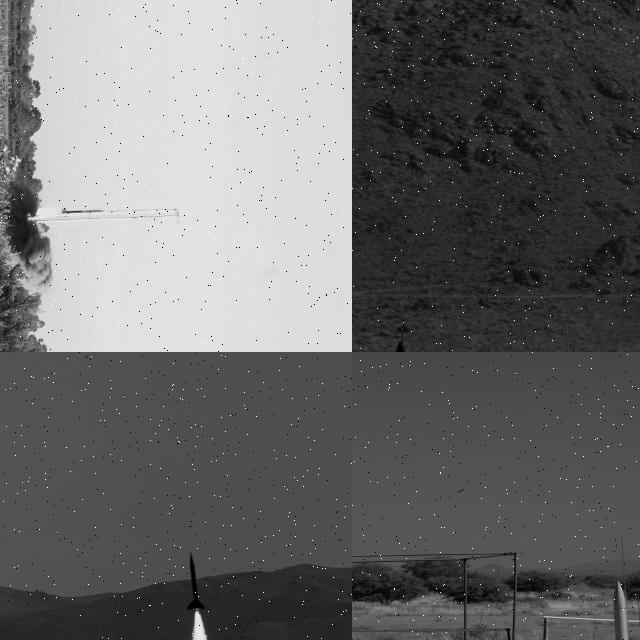Rocket: (603, 579, 640, 640), (186, 550, 206, 610), (62, 209, 105, 214)
